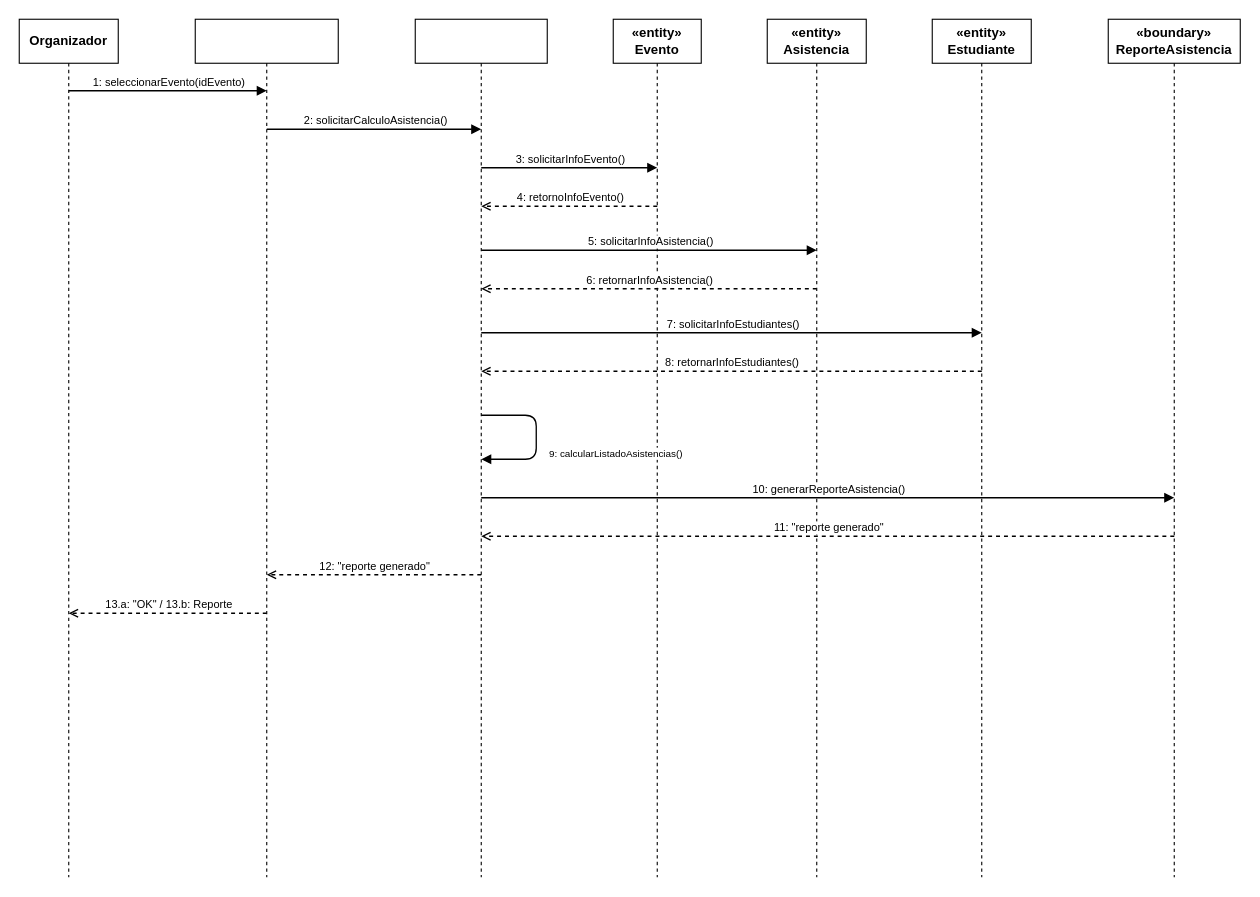
This 1260x897 diagram has some shape labels left out. The shapes that lost their labels are listed below. From the top down, each one's box as (x1, y1, x2, y2) in pixels, then its label:
(194, 18, 338, 877): «boundary» PantallaOrganizador
(414, 18, 547, 877): «control» GestionAsistencia
